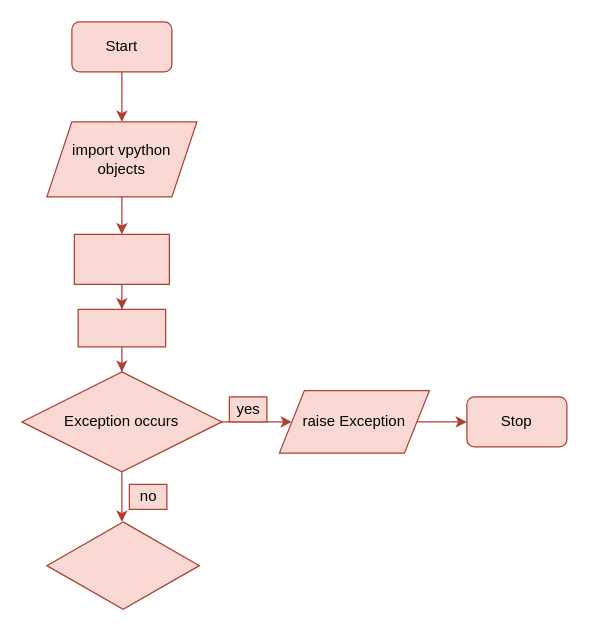
Some shapes in this 589 by 631 pixel diagram are drawn without their labels. The centre of each missing label's shape, as x and y in pixels:
"init()" belongs at pixel 121 258.
"try except" belongs at pixel 121 327.
"while True" belongs at pixel 122 565.
